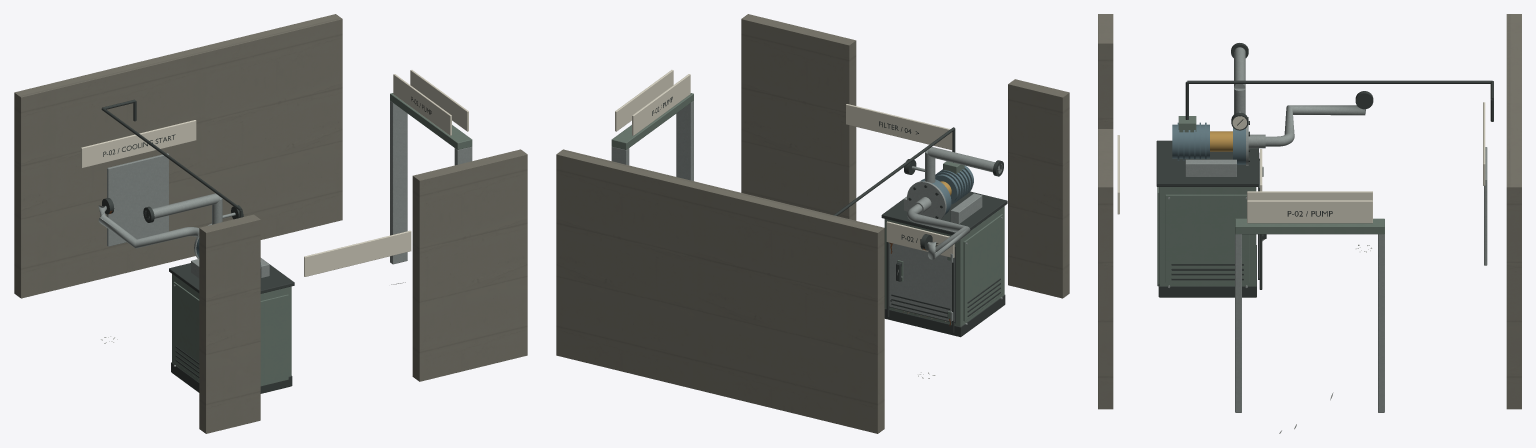
Rendered from power_pump.glb.
3 views of the same model, side by side, from view 1: azimuth 30°, elevation 25°; view 2: azimuth 150°, elevation 25°; view 3: azimuth 270°, elevation 25° (orthographic). The views are drawn at different scales.
Visible parts, largest first — view 1: power_pump / power_plaster, power_pump / power_galvanized, power_pump / power_instrument_ivory, power_pump / power_sage_enamel, power_pump / power_blackened_steel; view 2: power_pump / power_plaster, power_pump / power_galvanized, power_pump / power_sage_enamel, power_pump / power_instrument_ivory, power_pump / power_blackened_steel, power_pump / power_pump_bluegray; view 3: power_pump / power_plaster, power_pump / power_sage_enamel, power_pump / power_blackened_steel, power_pump / power_galvanized, power_pump / power_instrument_ivory, power_pump / power_pump_bluegray, power_pump / power_isolation_ochre.
Part boxes in pixels (<box>): power_pump / power_plaster: <box>14,14,527,433</box>; power_pump / power_galvanized: <box>98,101,472,366</box>; power_pump / power_instrument_ivory: <box>81,70,468,276</box>; power_pump / power_sage_enamel: <box>172,93,472,393</box>; power_pump / power_blackened_steel: <box>101,96,431,393</box>; power_pump / power_plaster: <box>556,14,1069,433</box>; power_pump / power_galvanized: <box>611,101,1002,324</box>; power_pump / power_sage_enamel: <box>611,93,1004,337</box>; power_pump / power_instrument_ivory: <box>615,70,954,257</box>; power_pump / power_blackened_steel: <box>652,96,1007,336</box>; power_pump / power_pump_bluegray: <box>920,165,973,214</box>; power_pump / power_plaster: <box>1098,14,1521,409</box>; power_pump / power_sage_enamel: <box>1157,116,1384,297</box>; power_pump / power_blackened_steel: <box>1156,43,1493,297</box>; power_pump / power_galvanized: <box>1168,47,1487,412</box>; power_pump / power_instrument_ivory: <box>1117,102,1485,223</box>; power_pump / power_pump_bluegray: <box>1172,122,1245,164</box>; power_pump / power_isolation_ochre: <box>1210,131,1232,151</box>.
Size of the model in its own units: 6.89 by 3.61 by 6.23.
Materials: 13 (5 with a texture image).
